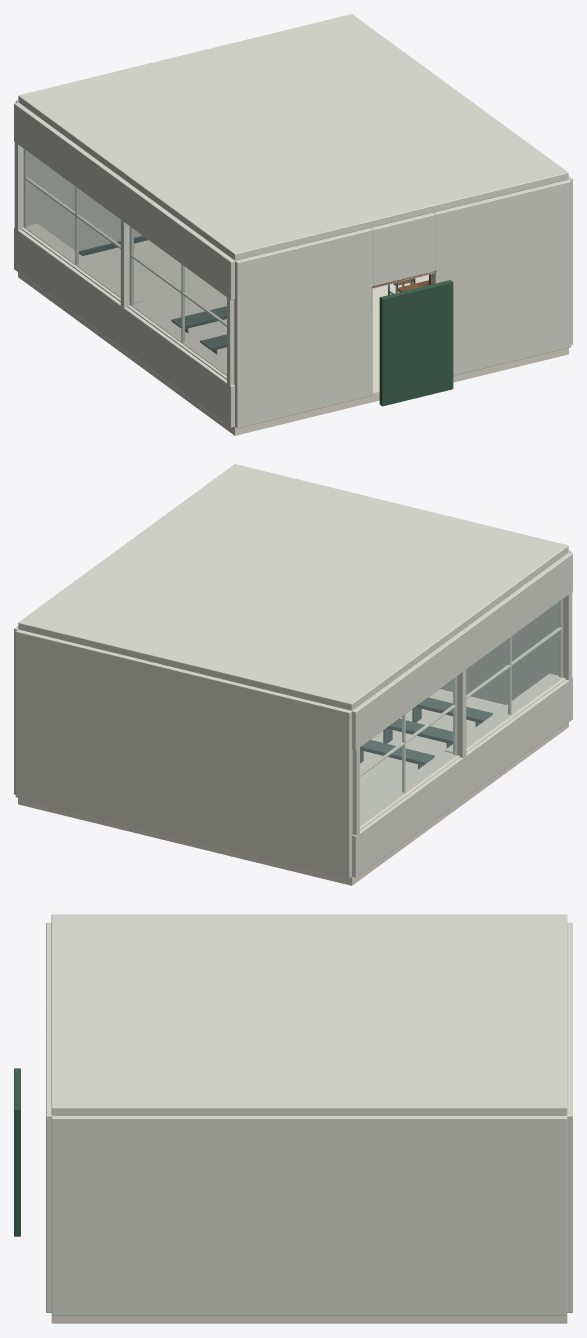
File: exam-3.glb
3 views of the same model, one above another, from view 1: azimuth 30°, elevation 25°; view 2: azimuth 150°, elevation 25°; view 3: azimuth 270°, elevation 25° (orthographic). The views are drawn at different scales.
Parts seen in each view (by area): view 1: exam-3__architecture_and_equipment; view 2: exam-3__architecture_and_equipment; view 3: exam-3__architecture_and_equipment.
Part boxes in pixels (<box>): exam-3__architecture_and_equipment: <box>14,14,572,435</box>; exam-3__architecture_and_equipment: <box>14,464,572,885</box>; exam-3__architecture_and_equipment: <box>14,914,572,1323</box>.
Size of the model in its own units: 8.2 by 4.16 by 9.76.
13 materials, 1 textured.
